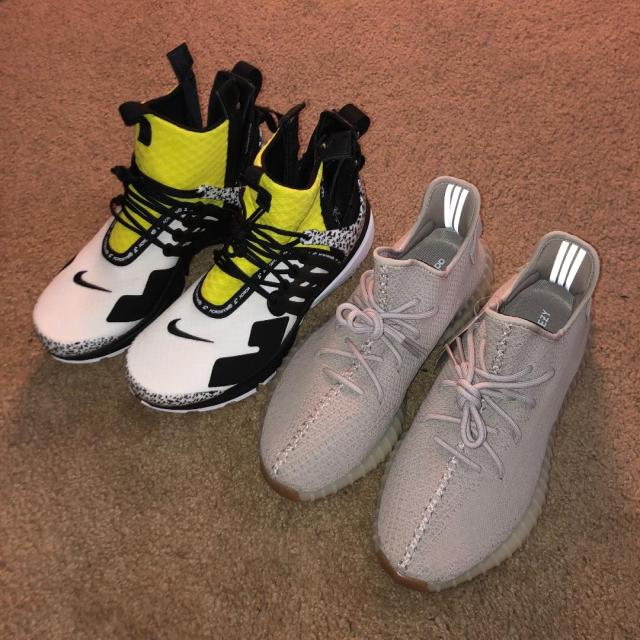shoe: (371, 226, 603, 598), (256, 162, 500, 513), (30, 39, 281, 380), (122, 97, 380, 419)
